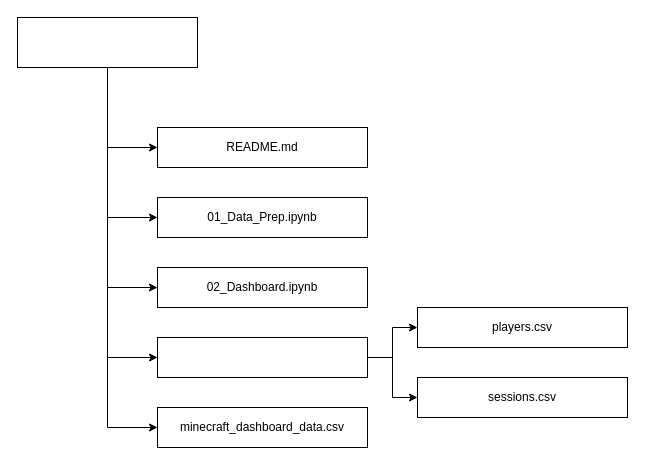
Some shapes in this 645 by 465 pixel diagram are drawn without their labels. The shapes that lost their labels are listed below. From the top down, each one's centre as x and y in pixels, then its label:
At [107,42]: "minecraft-player-analytics/".
At [262,357]: "data/".
